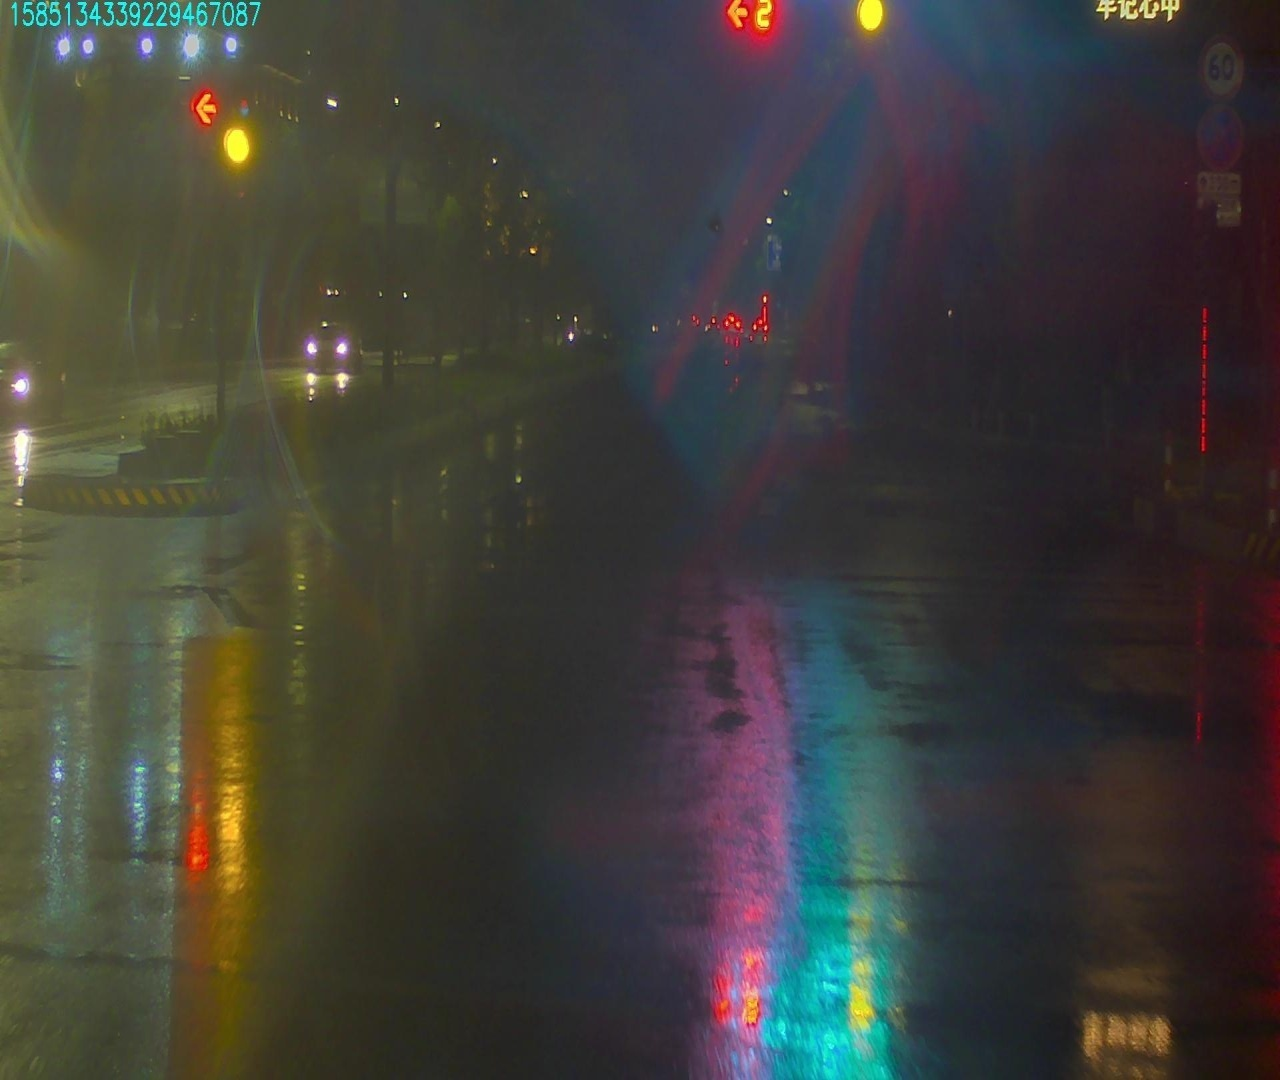red: (720, 2, 779, 28)
yellow: (854, 2, 891, 37)
